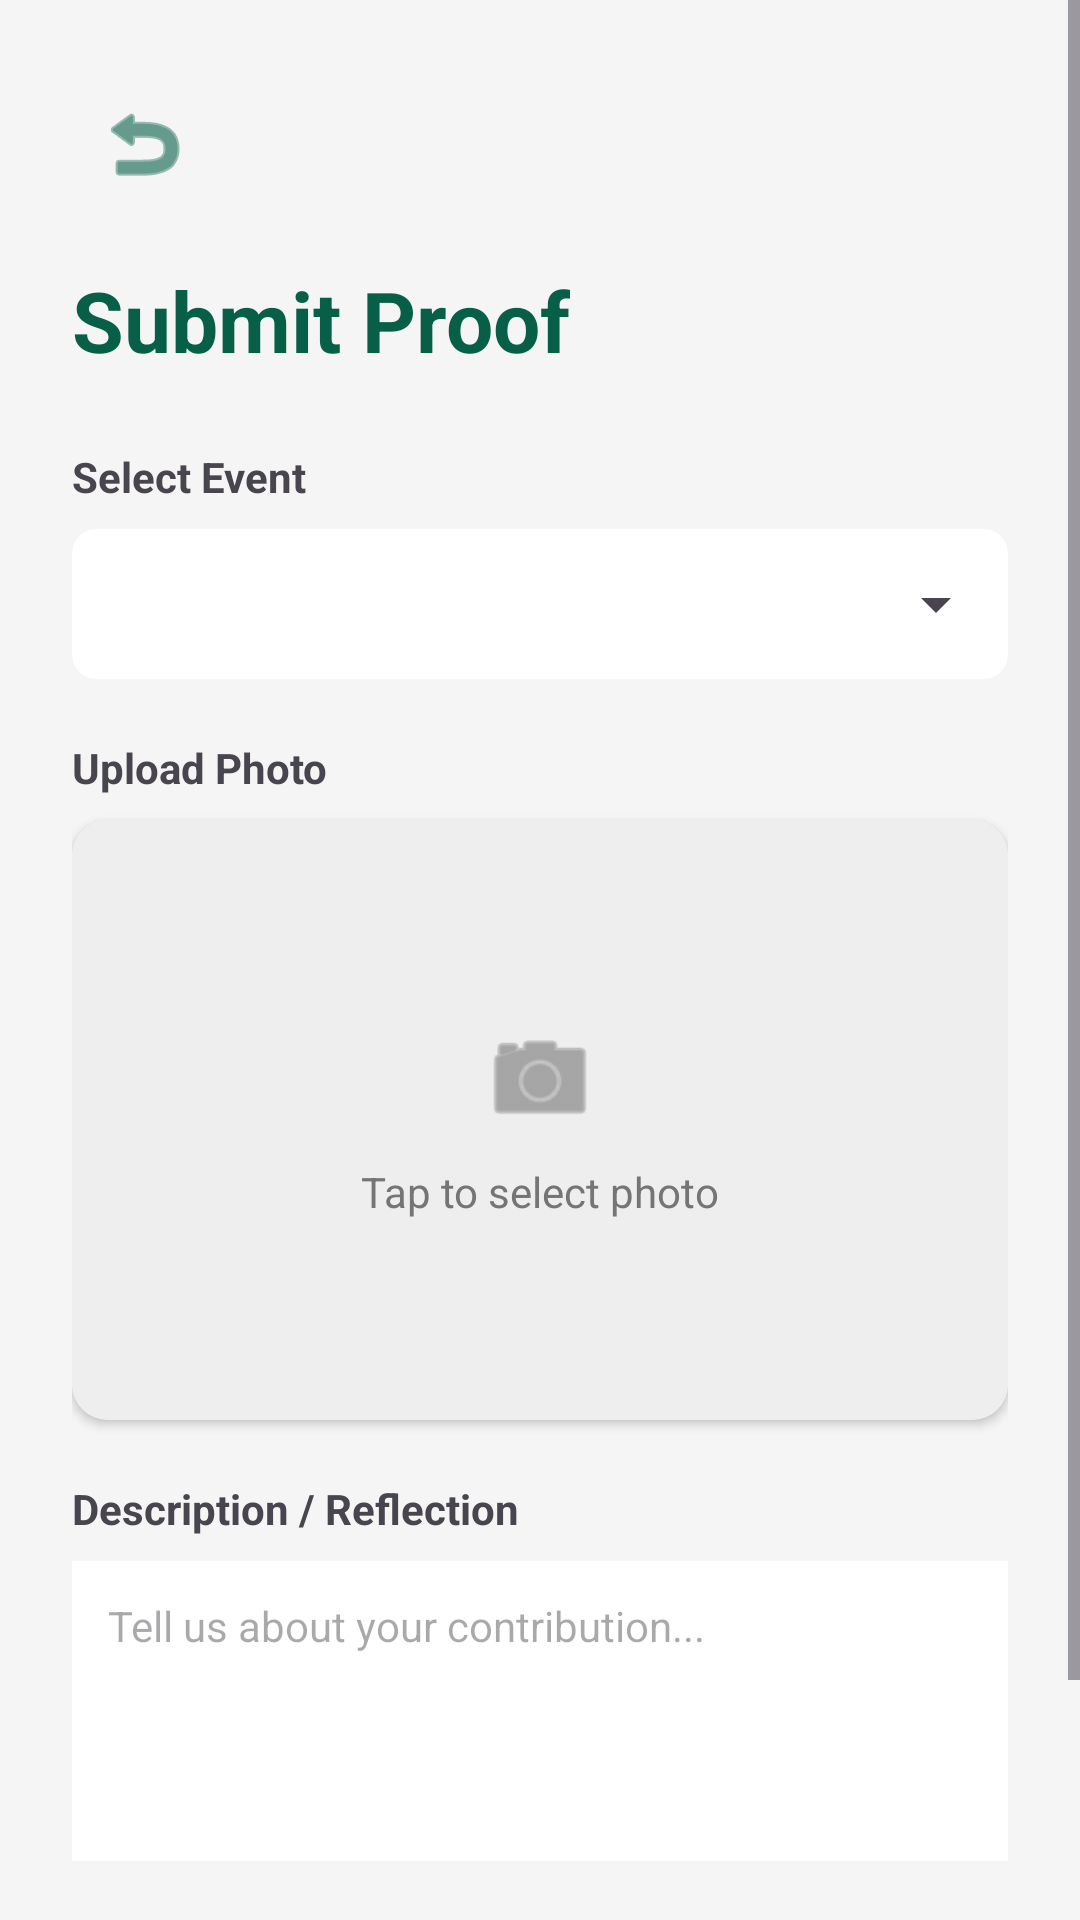

Icons on this 1080×1920 Android screen, each with the point to tap as (x=x, y=y):
Back: (x=145, y=144)
camera: (x=540, y=1077)
